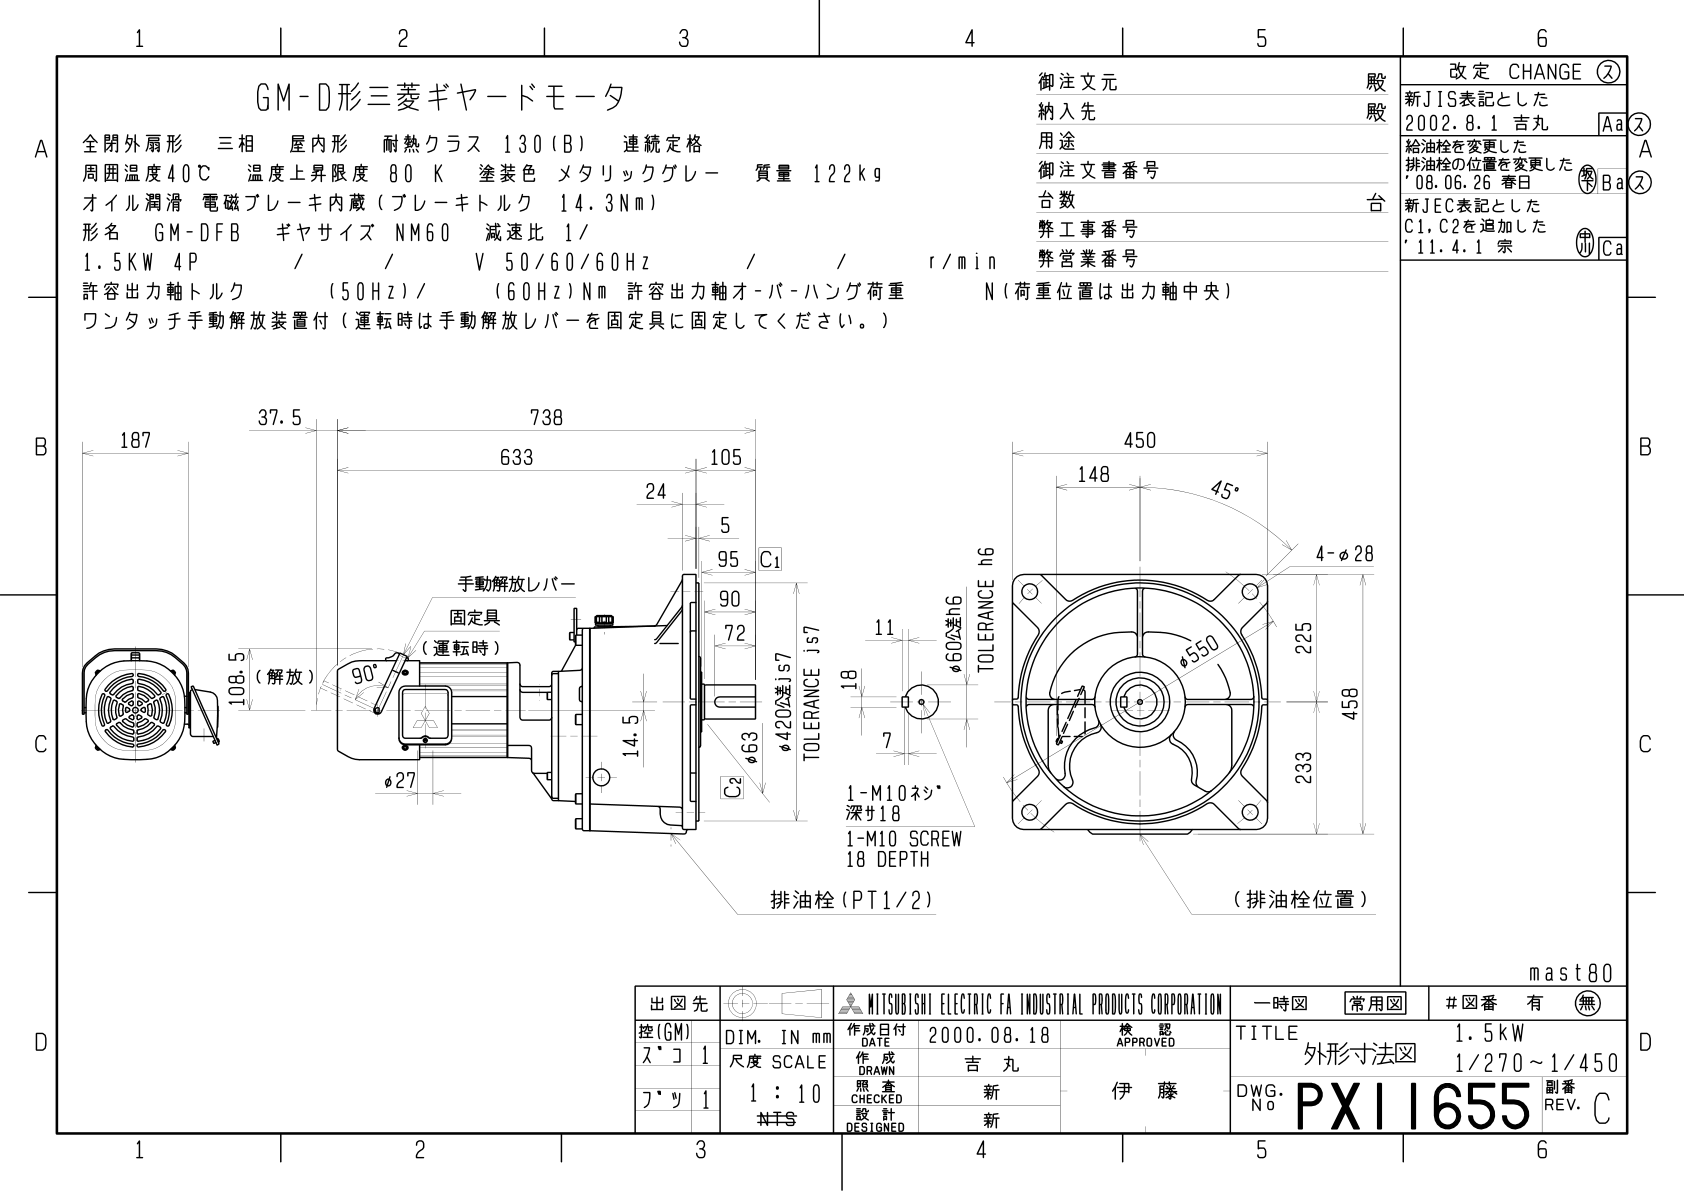GM_D_手動解放ブレーキ＿三相_フランジ: (61, 373, 1389, 933)
